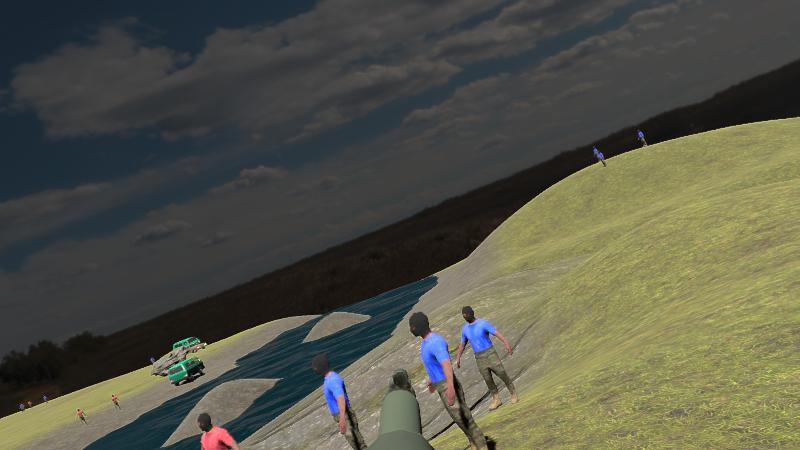Human: (407, 310, 492, 450), (456, 305, 519, 412), (312, 352, 369, 449)
car: (167, 356, 206, 387)
